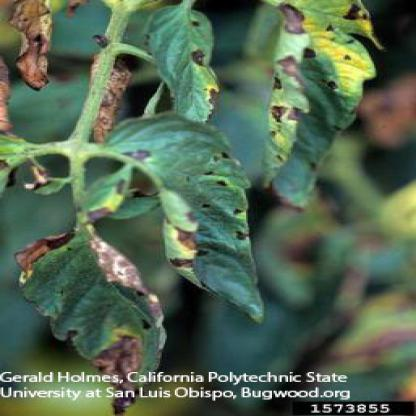Tomato Early blight leaf: (105, 110, 274, 325), (15, 214, 175, 406), (244, 1, 379, 215)
